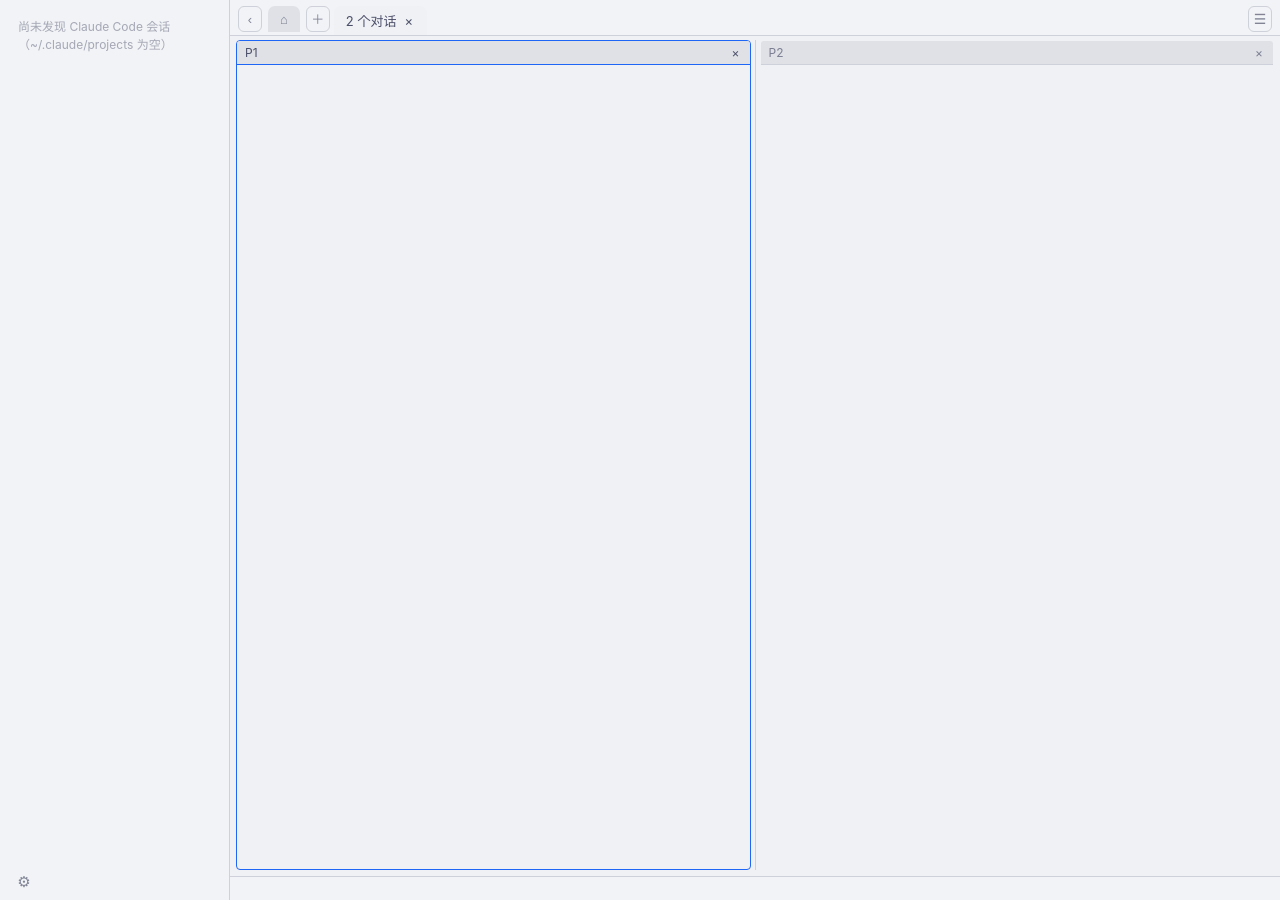
Test: TabPanes — 右键窗格标题栏打开上下文菜单（设计文档 §5-C） › 点击「移出为独立标签」：拆出成独立标签（无落点，追加到末尾），菜单随即关闭
Step 1. Right-click the text "P2" → point(1017, 53), box [760, 41, 1273, 65]
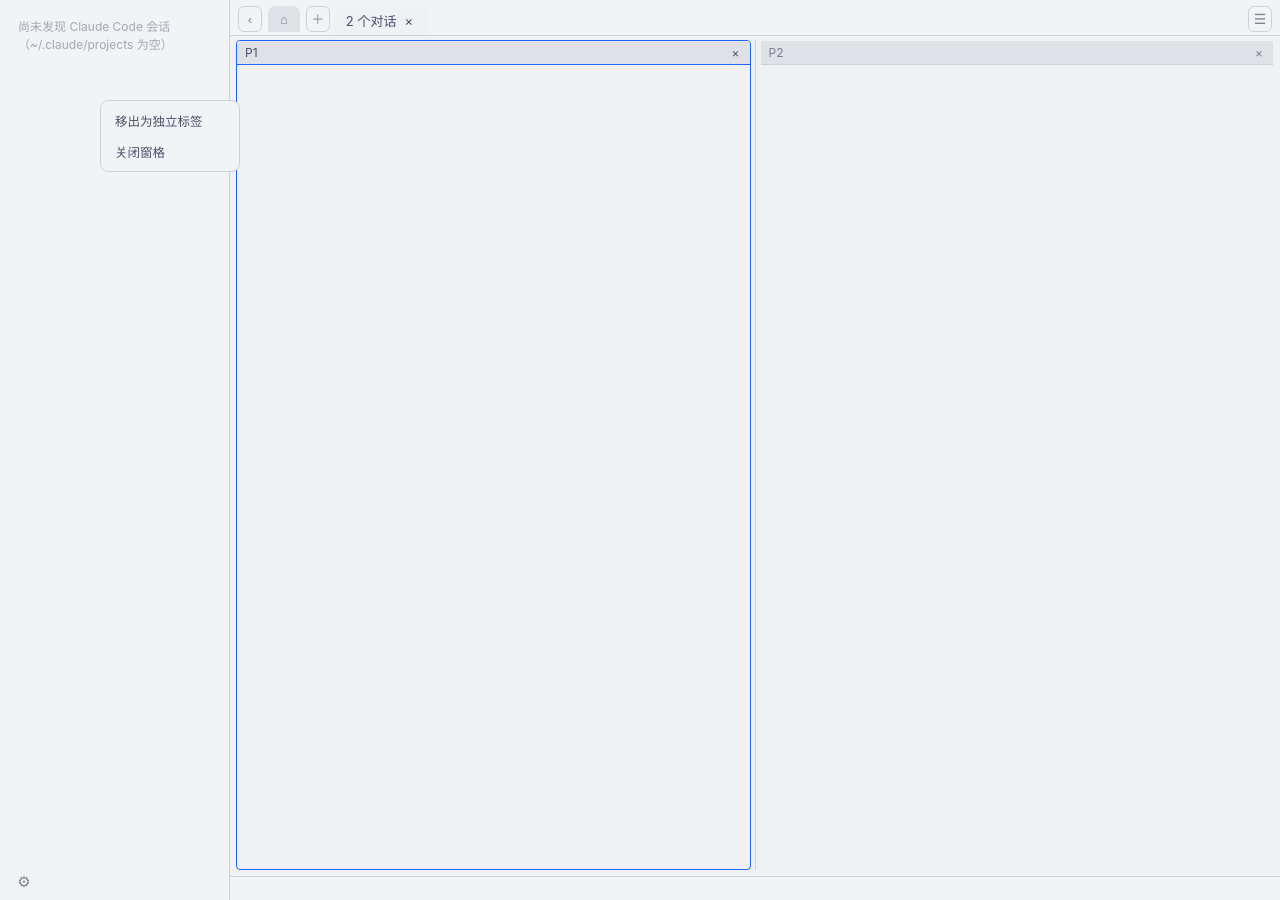
Step 2. Click the menu item "移出为独立标签" → point(159, 122), box [115, 114, 202, 129]
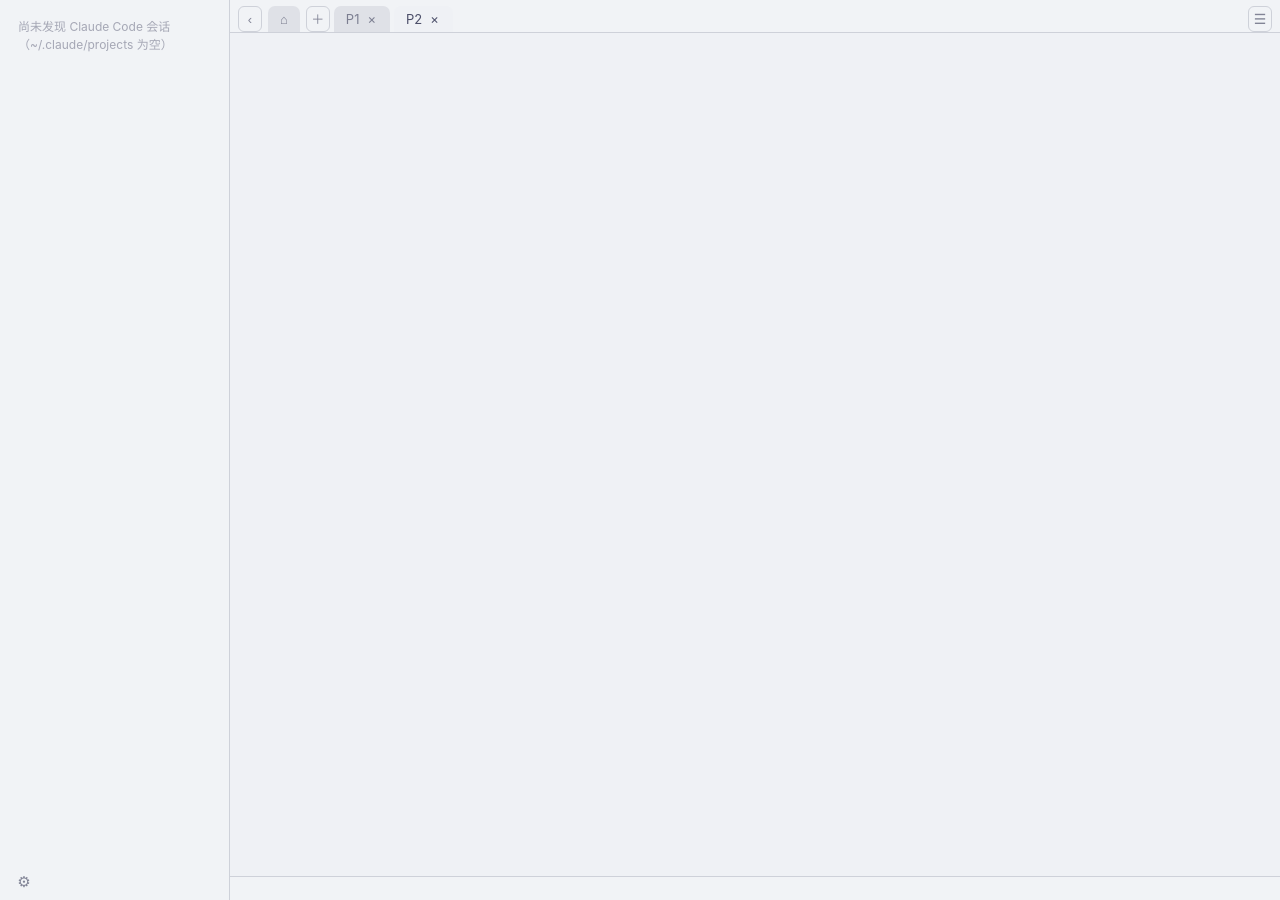
Result: the menu item "移出为独立标签" is gone
